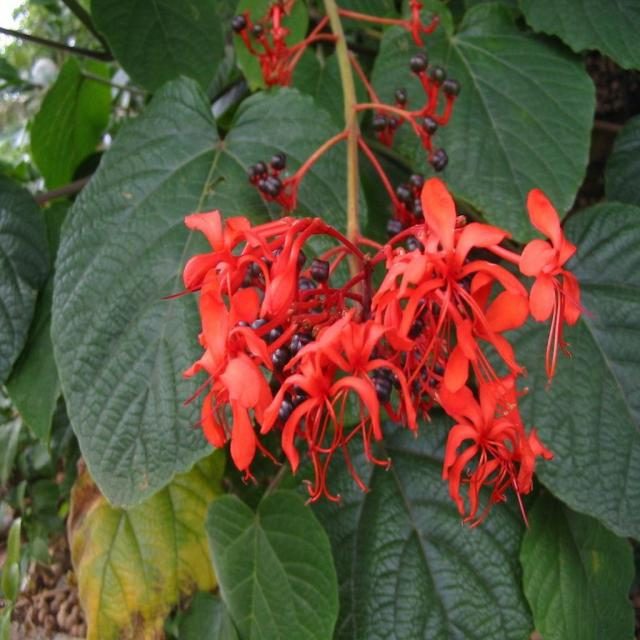organic waste: (365, 171, 510, 370), (177, 194, 349, 318), (273, 309, 398, 468), (186, 293, 286, 462), (442, 378, 556, 514), (504, 176, 588, 359)
